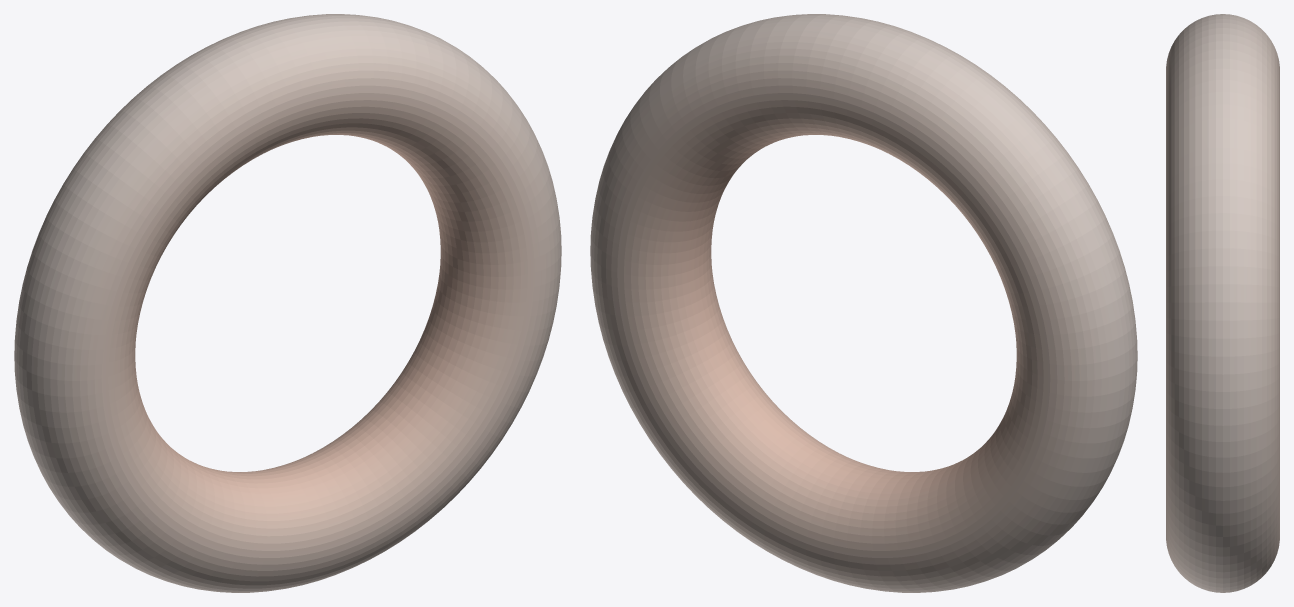
The picture shows the model from 3 angles, left to right: view 1: azimuth 30°, elevation 25°; view 2: azimuth 150°, elevation 25°; view 3: azimuth 270°, elevation 25°; orthographic projection. The views are drawn at different scales.
Visible parts, largest first — view 1: world; view 2: world; view 3: world.
Part boxes in pixels (box(x1,y1,x2,y2)): world: box(14, 14, 561, 592); world: box(590, 14, 1137, 592); world: box(1166, 14, 1279, 592).
Bounding box in the file's own units: 29.07 × 29.07 × 5.72.
